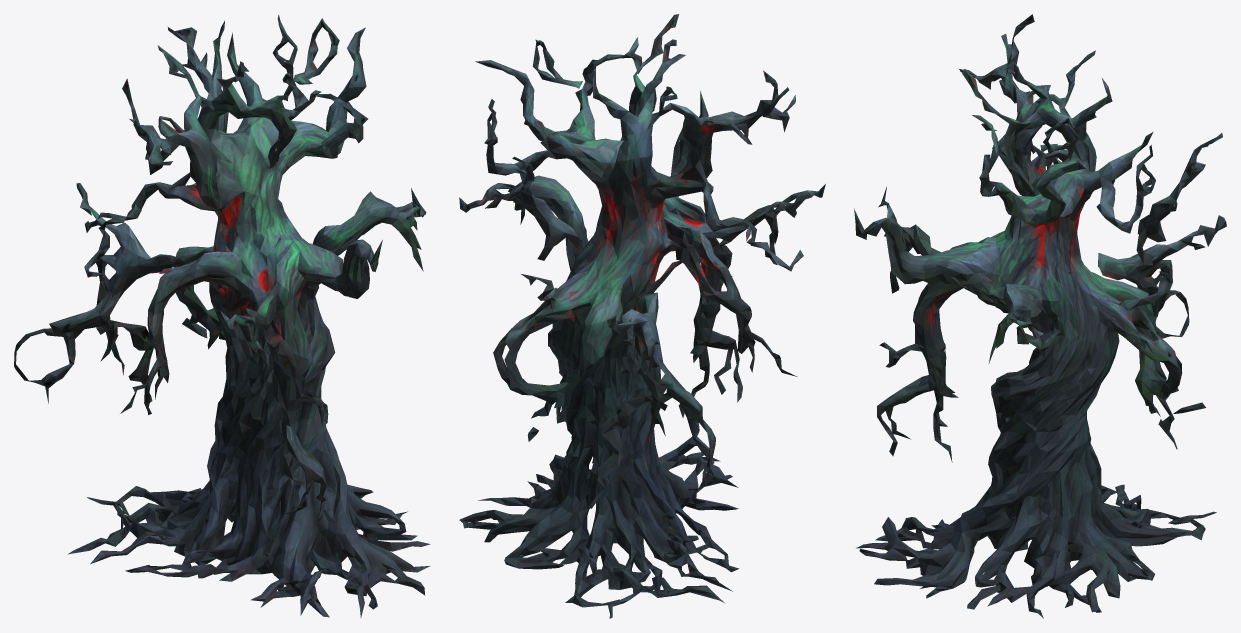
File: A_twisted_corrupted__0613144500_texture.fbx
3 renders of one model, left to right at view 1: azimuth 30°, elevation 25°; view 2: azimuth 150°, elevation 25°; view 3: azimuth 270°, elevation 25°, orthographic. The views are drawn at different scales.
Visible parts, largest first — view 1: temp; view 2: temp; view 3: temp.
Boxes of the visible parts, <box> form: temp: <box>14,14,430,617</box>; temp: <box>459,14,825,618</box>; temp: <box>854,14,1226,618</box>.
Size of the model in its own units: 137 by 198 by 139.
Materials: 1 (1 with a texture image).
